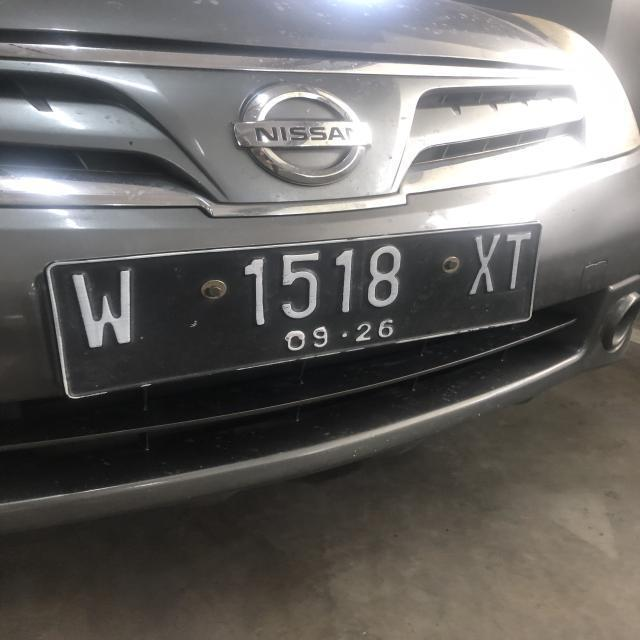1: (238, 256, 274, 328), (332, 247, 361, 314)
5: (276, 250, 324, 320)
8: (362, 244, 408, 308)
T: (503, 230, 532, 291)
W: (72, 266, 144, 353)
X: (464, 232, 506, 298)
